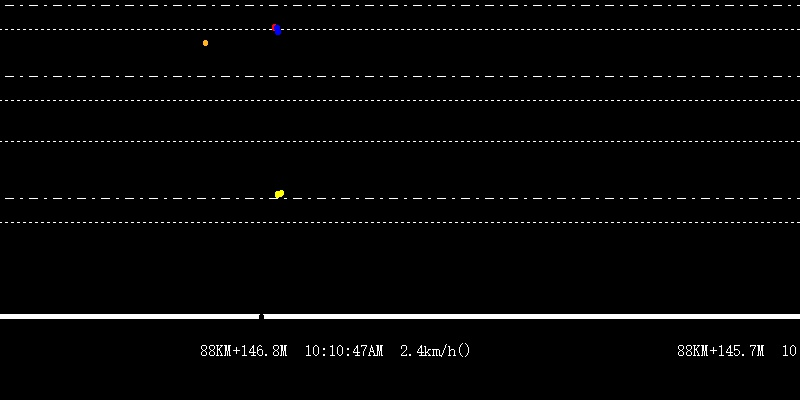face_down: (201, 27, 209, 51)
face_s: (268, 19, 282, 38)
